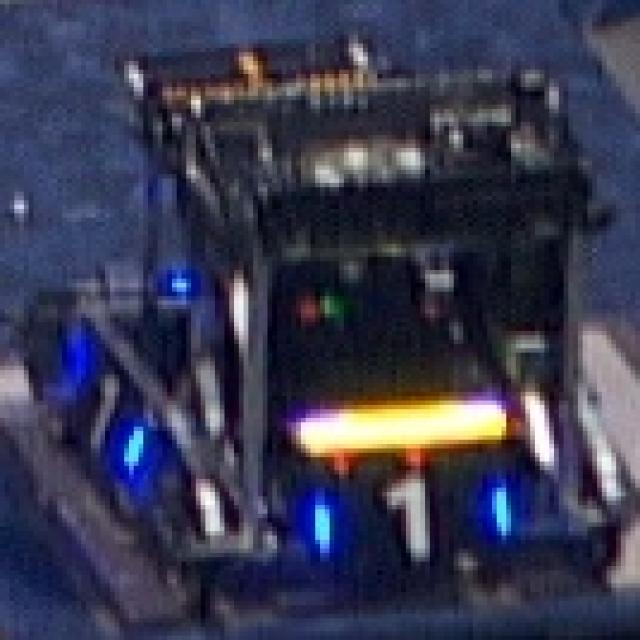B1: (310, 479, 516, 562), (57, 331, 148, 479)
